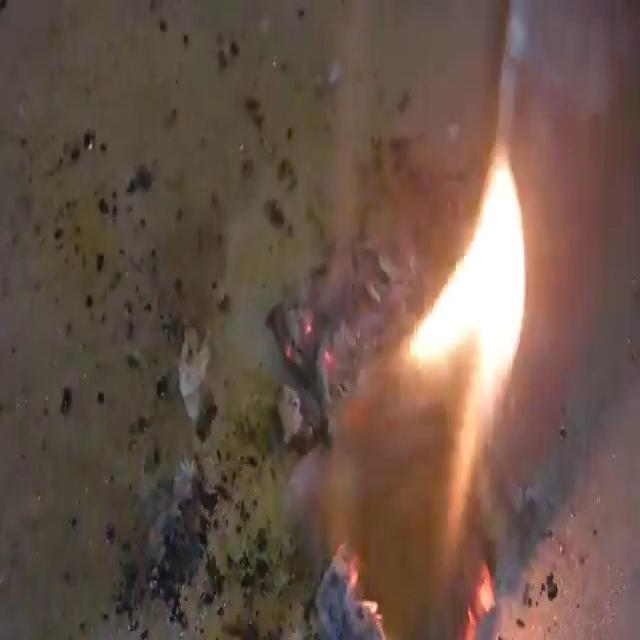Fire: (317, 148, 533, 634)
